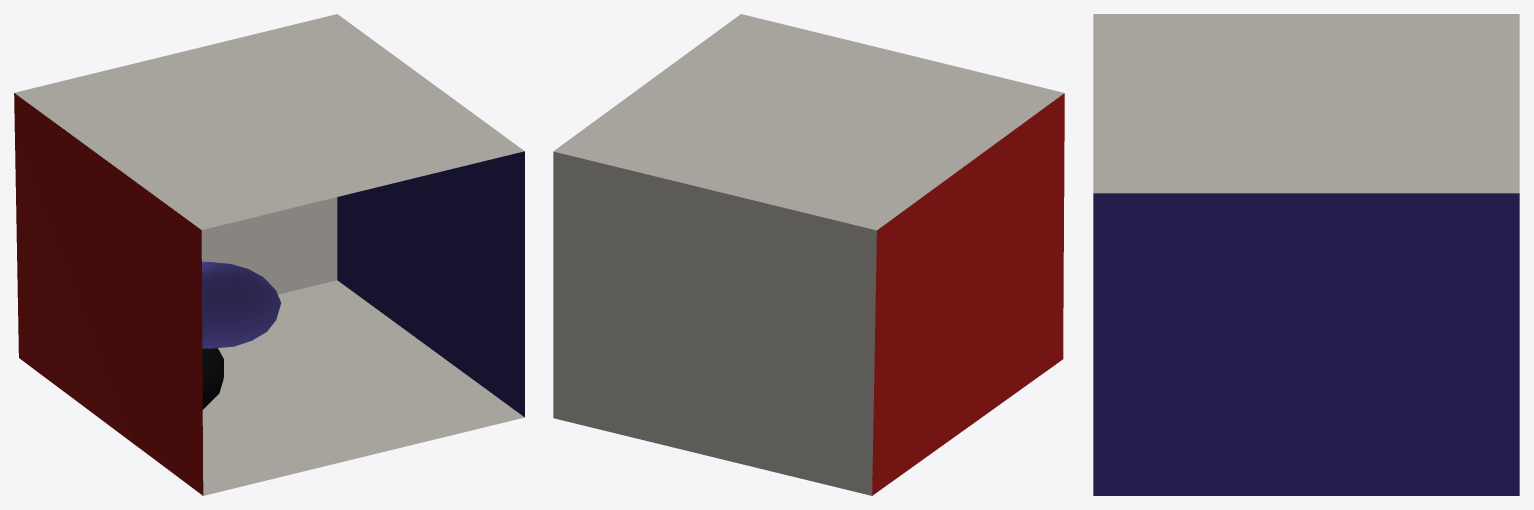
The model's file is CornellBox-Ellipsoid-151.obj.
3 views of the same model, side by side, from view 1: azimuth 30°, elevation 25°; view 2: azimuth 150°, elevation 25°; view 3: azimuth 270°, elevation 25° (orthographic). The views are drawn at different scales.
Parts seen in each view (by area): view 1: ceiling, leftWall, floor, rightWall, backWall, leftSphere, rightSphere; view 2: backWall, ceiling, leftWall; view 3: rightWall, ceiling.
Boxes of the visible parts, x1,y1,x2,y2 form: ceiling: (14, 14, 524, 229); leftWall: (14, 93, 203, 495); floor: (202, 280, 524, 495); rightWall: (337, 151, 524, 417); backWall: (201, 197, 337, 294); leftSphere: (202, 261, 280, 348); rightSphere: (202, 348, 223, 409); backWall: (553, 151, 876, 495); ceiling: (553, 14, 1064, 230); leftWall: (872, 93, 1064, 495); rightWall: (1093, 193, 1519, 495); ceiling: (1093, 14, 1519, 193).
Size of the model in its own units: 2.02 by 1.59 by 2.03.
